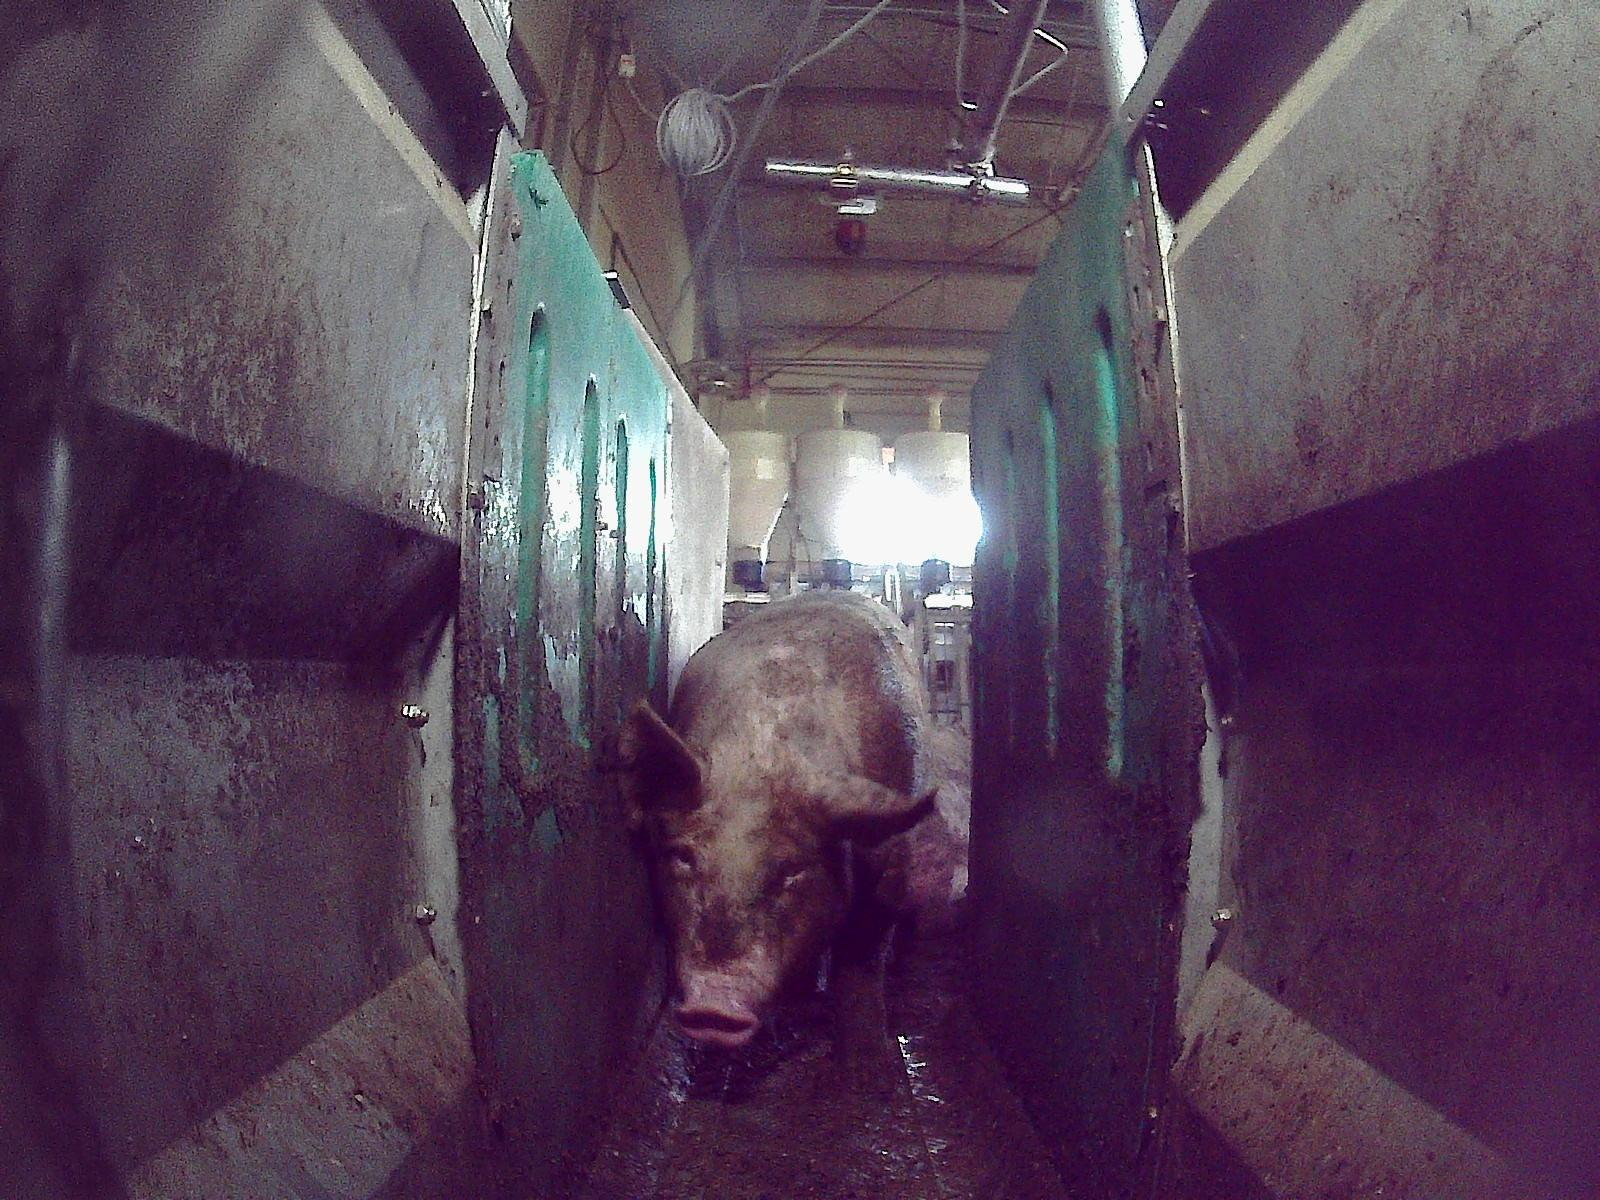Face: (641, 755, 850, 1045)
